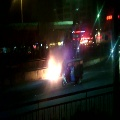fire: (42, 57, 61, 81)
